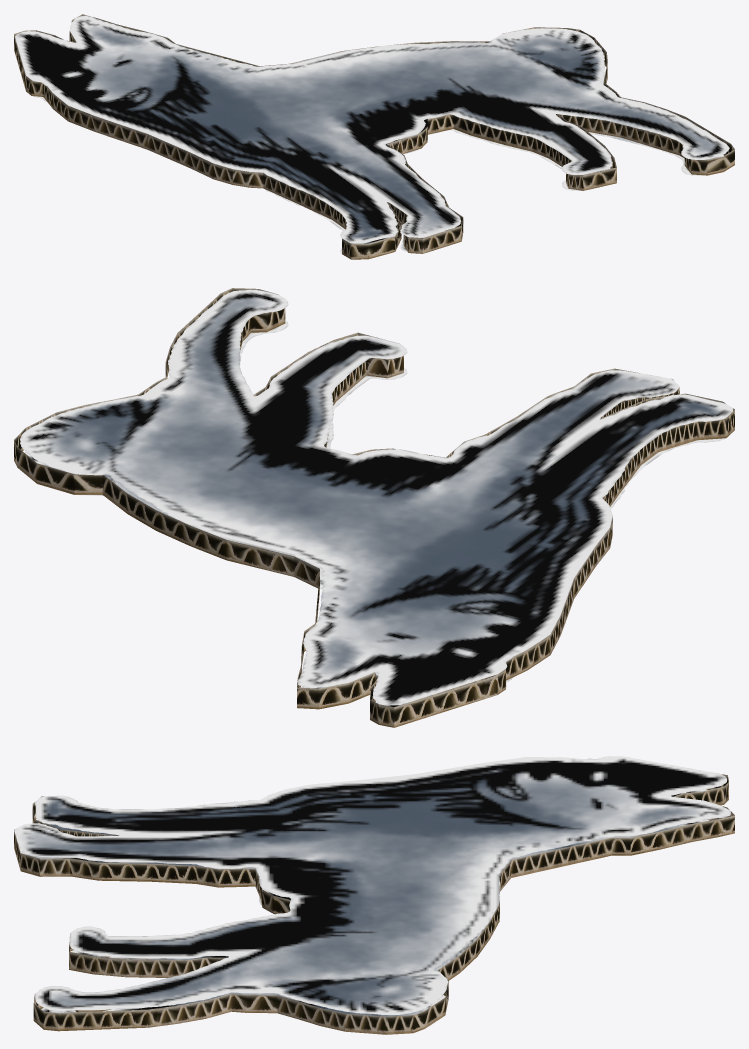
Rendered from dogSound.fbx.
3 views of the same model, one above another, from view 1: azimuth 30°, elevation 25°; view 2: azimuth 150°, elevation 25°; view 3: azimuth 270°, elevation 25° (orthographic). The views are drawn at different scales.
Visible parts, largest first — view 1: Plane; view 2: Plane; view 3: Plane.
Boxes of the visible parts, box(x1,y1,x2,y2) form: Plane: box(14, 14, 734, 259); Plane: box(14, 288, 734, 727); Plane: box(14, 756, 734, 1034).
Bounding box in the file's own units: 1.54 × 0.05 × 1.8.
Materials: 2 (2 with a texture image).
